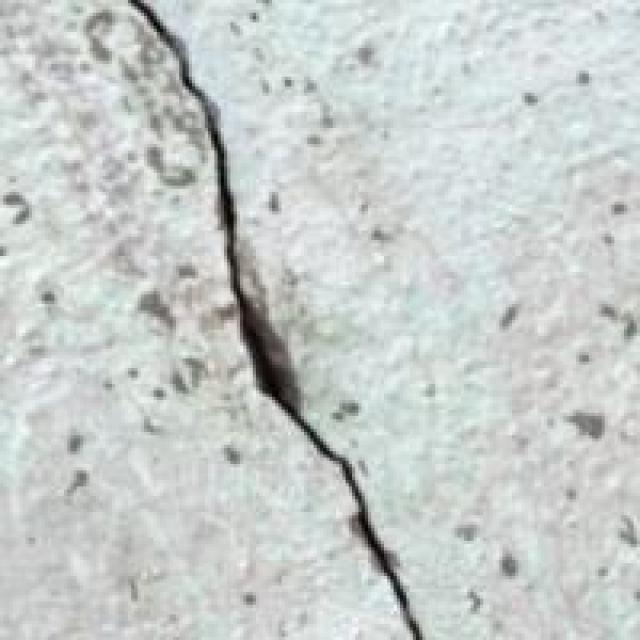Crack: (128, 0, 454, 621)
